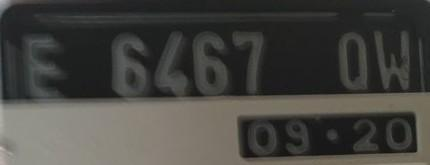clone-license-plate: (4, 6, 428, 157)
